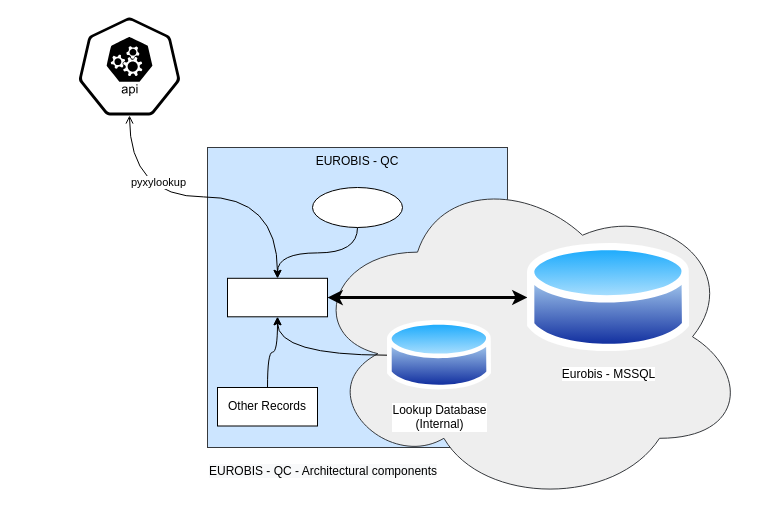
This 765x524 diagram has some shape labels left out. Here are the shapes that lost their labels. From the top down, the box of each, then its label:
(312, 186, 402, 228): Internal QC Logic
(226, 277, 328, 317): Record QC
